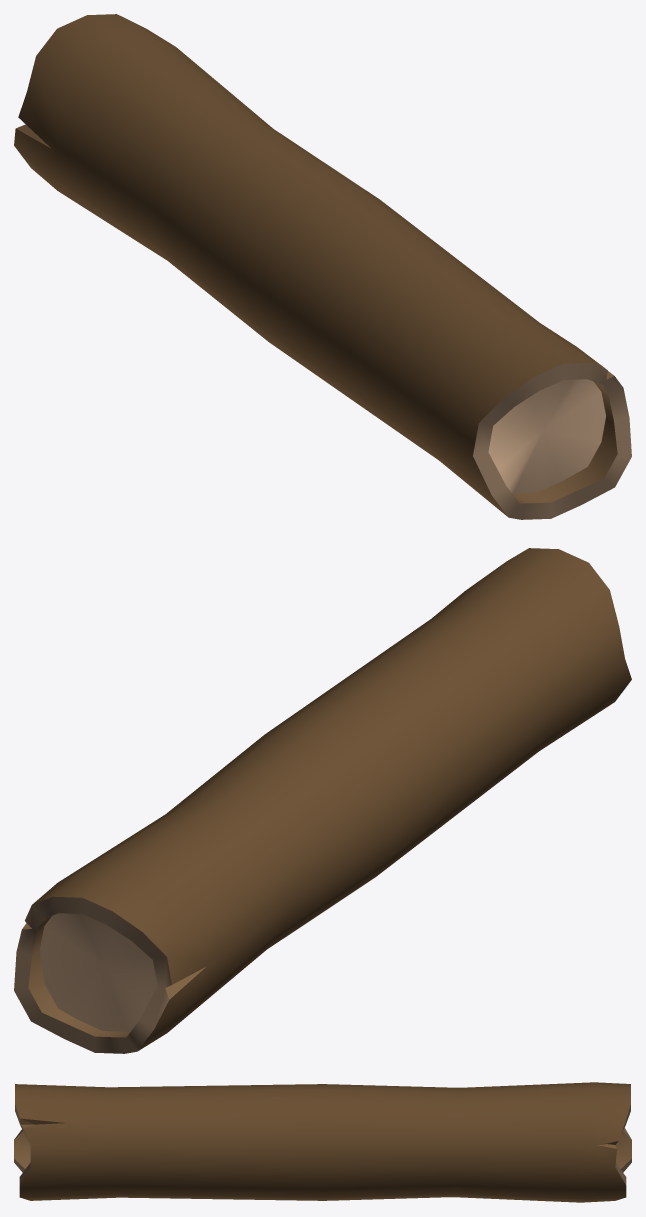
Rendered from log_bench.fbx.
3 renders of one model, top to bottom at view 1: azimuth 30°, elevation 25°; view 2: azimuth 150°, elevation 25°; view 3: azimuth 270°, elevation 25°, orthographic. The views are drawn at different scales.
Parts seen in each view (by area): view 1: log_bench; view 2: log_bench; view 3: log_bench.
Boxes of the visible parts, x1,y1,x2,y2 form: log_bench: [14, 14, 631, 519]; log_bench: [14, 548, 631, 1053]; log_bench: [14, 1082, 631, 1202].
Bounding box in the file's own units: 41.21 × 41.21 × 211.
